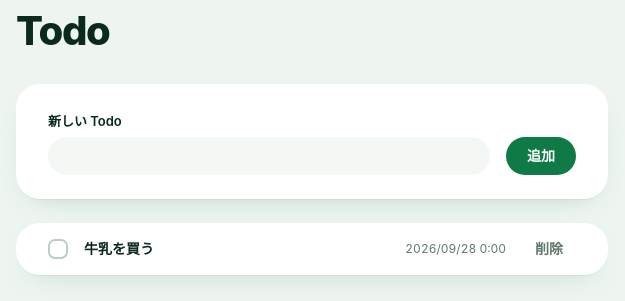
削除ボタンを押すと、その Todo が削除され一覧から消える
Click the button "削除" at (549, 249), box [522,235,576,263]
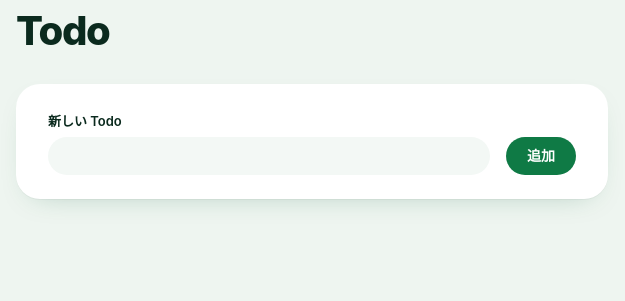
Check: the link "牛乳を買う" is gone
